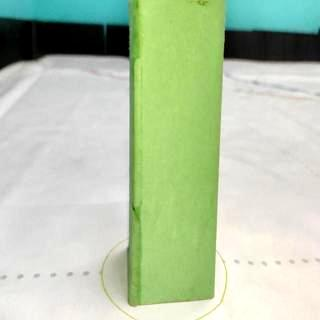greenbox: (127, 0, 227, 308)
